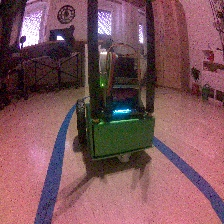rob: (74, 52, 156, 164)
